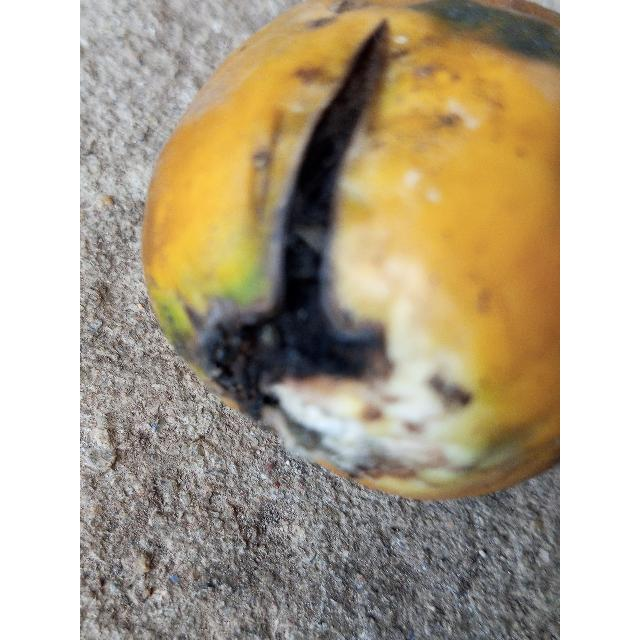damaged: (141, 0, 560, 504)
